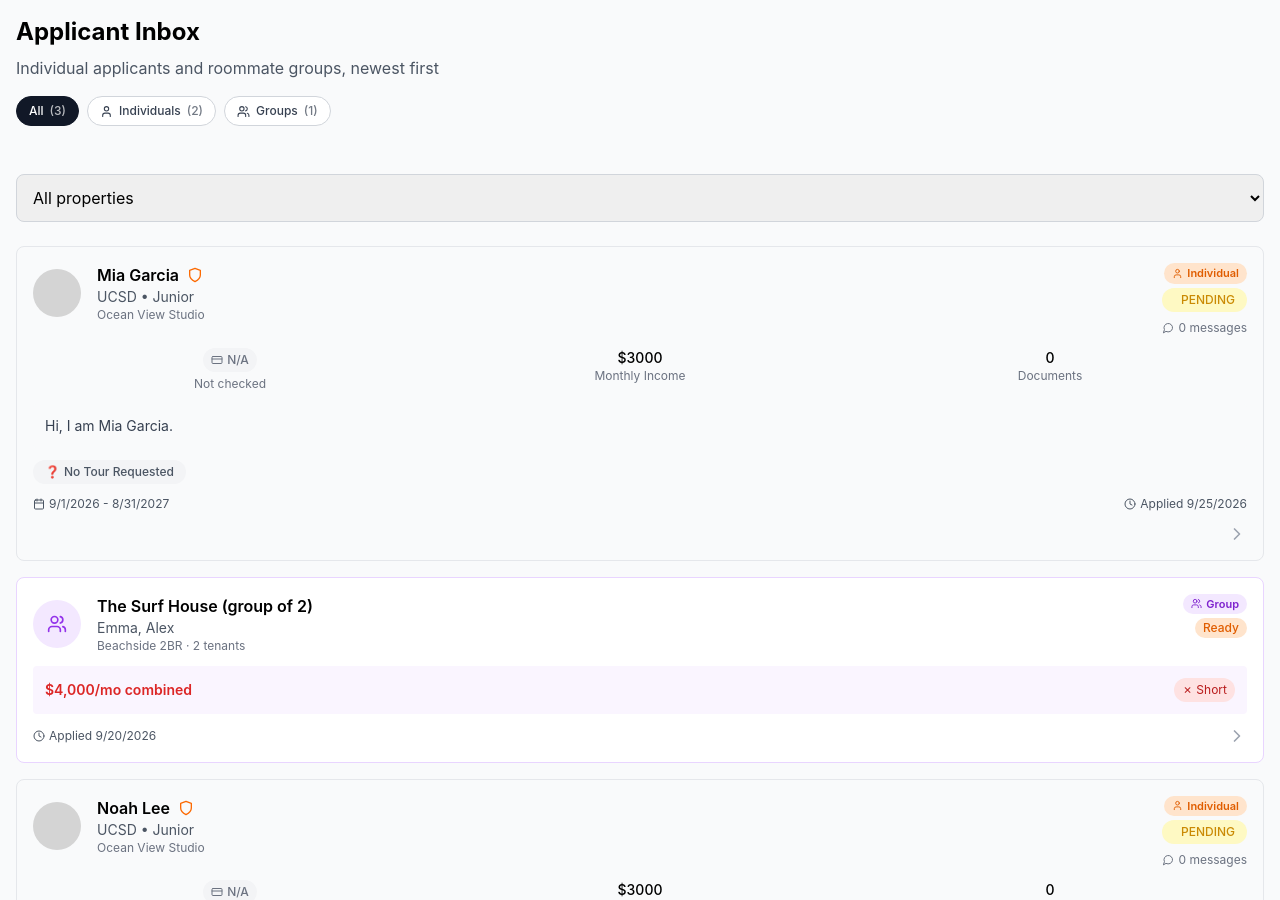
Test case: LandlordInbox › filters by kind and by property
This screenshot has width=1280, height=900.
Check: the element with test id "inbox-group-l1:g1" is shown, box [16, 576, 1264, 762]
Click the button "Groups (1)": [277, 111] box [224, 96, 331, 126]
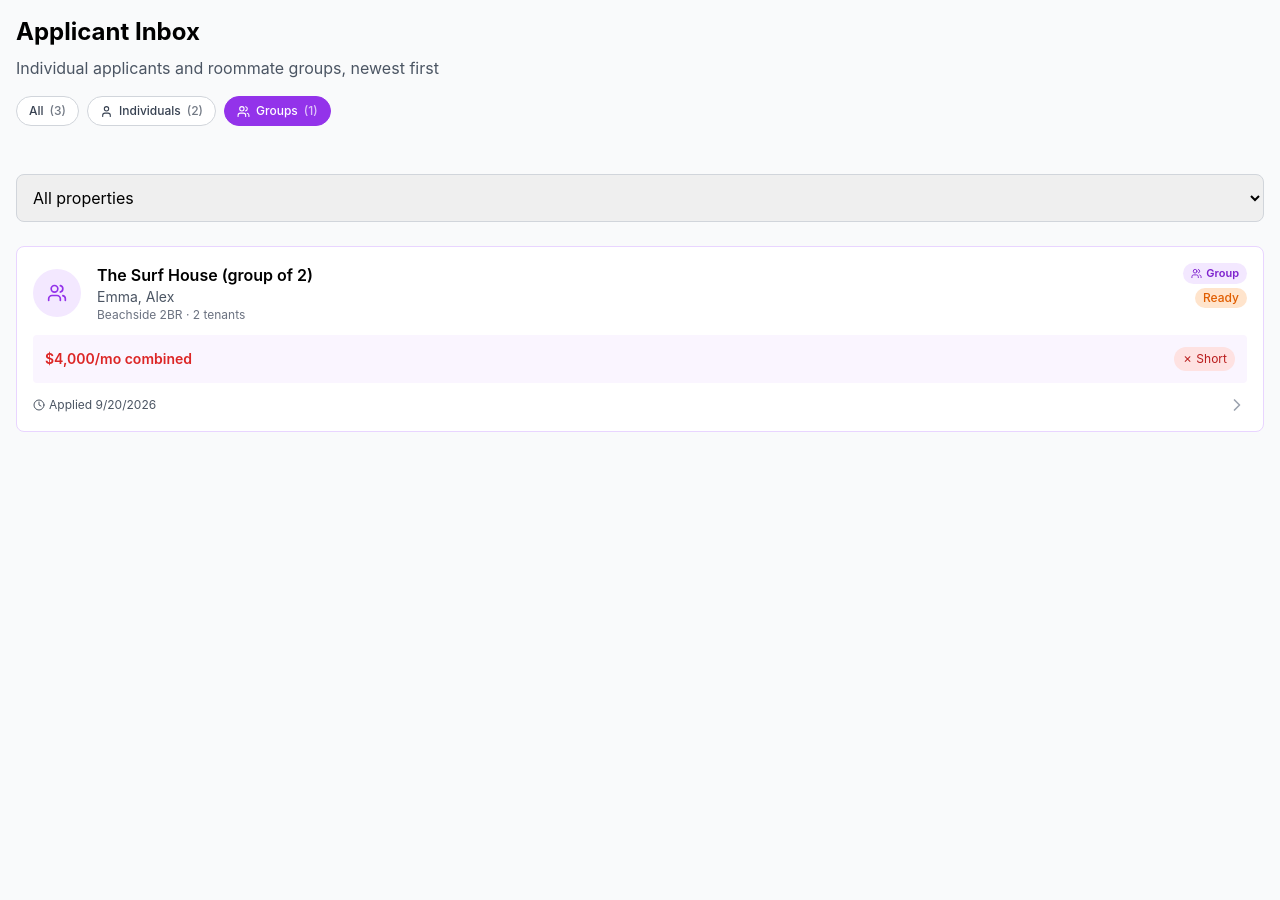
Check: the element with test id "inbox-group-l1:g1" is shown, box [16, 246, 1264, 432]
Check: the element with test id "inbox-application-a3" is gone
Click the button "Individuals (2)": [152, 111] box [87, 96, 216, 126]
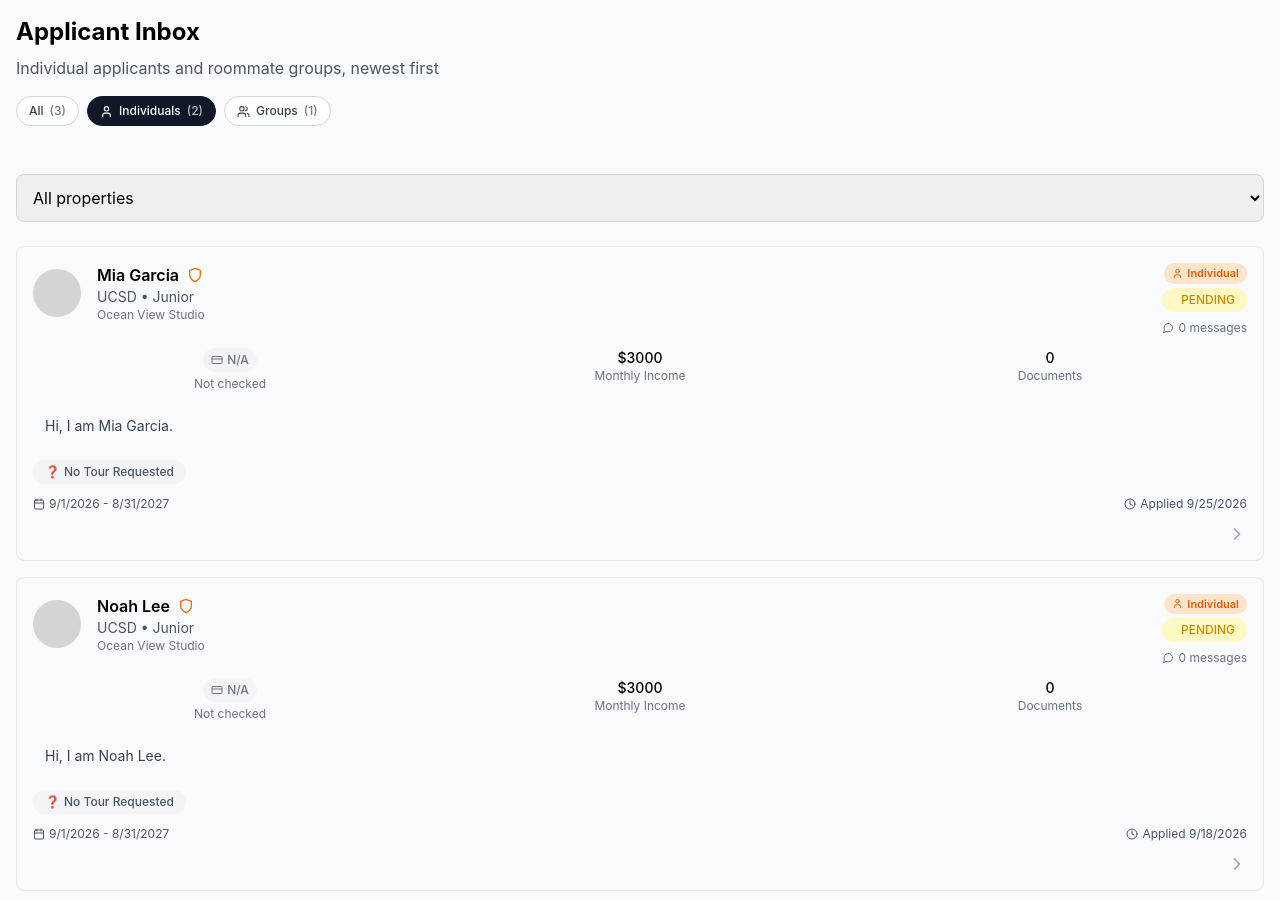
Check: the element with test id "inbox-application-a3" is shown, box [16, 246, 1264, 560]
Click the button "All (3)": [48, 111] box [16, 96, 79, 126]
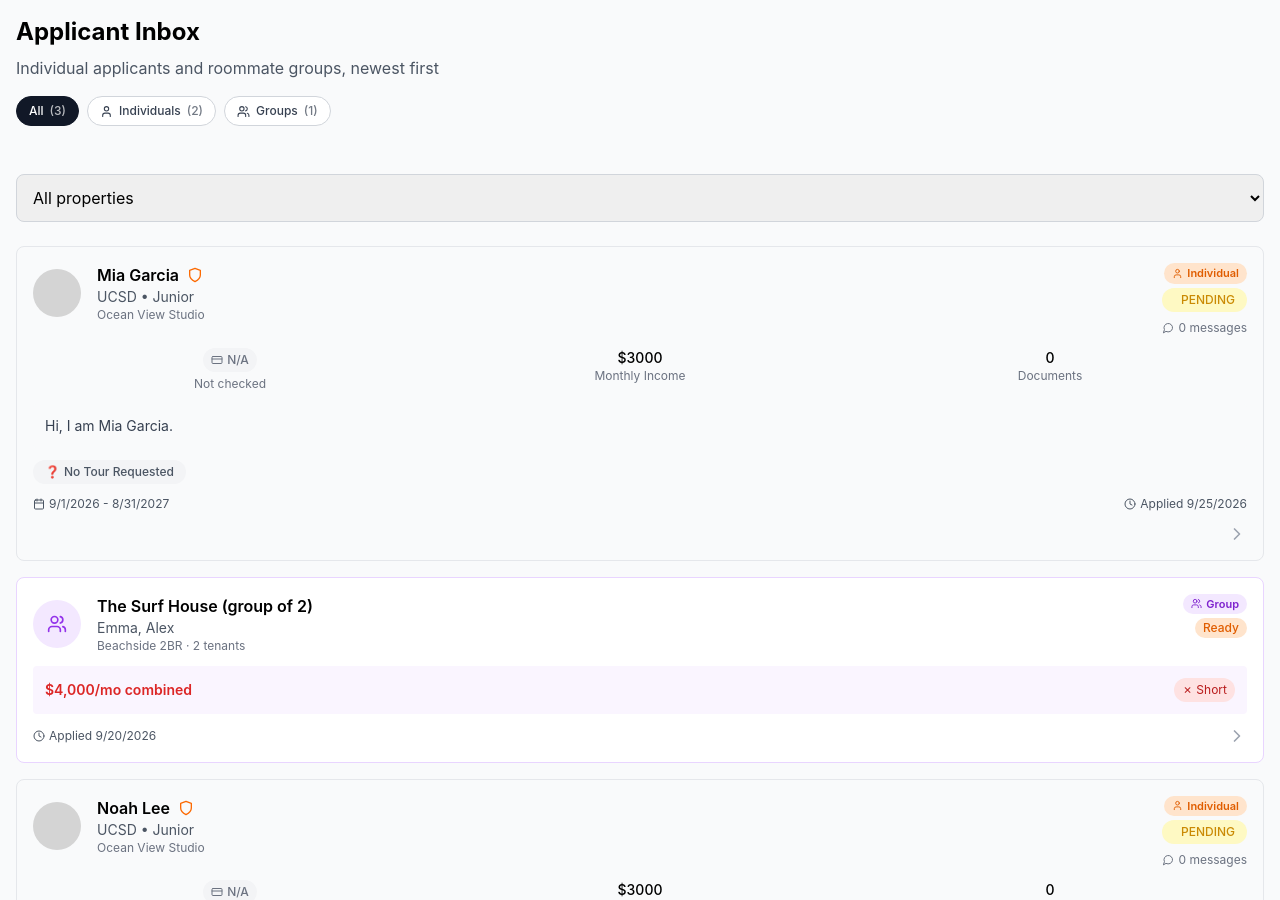
Select "Beachside 2BR" in the dropdown named "Property": [640, 198] box [16, 174, 1264, 222]
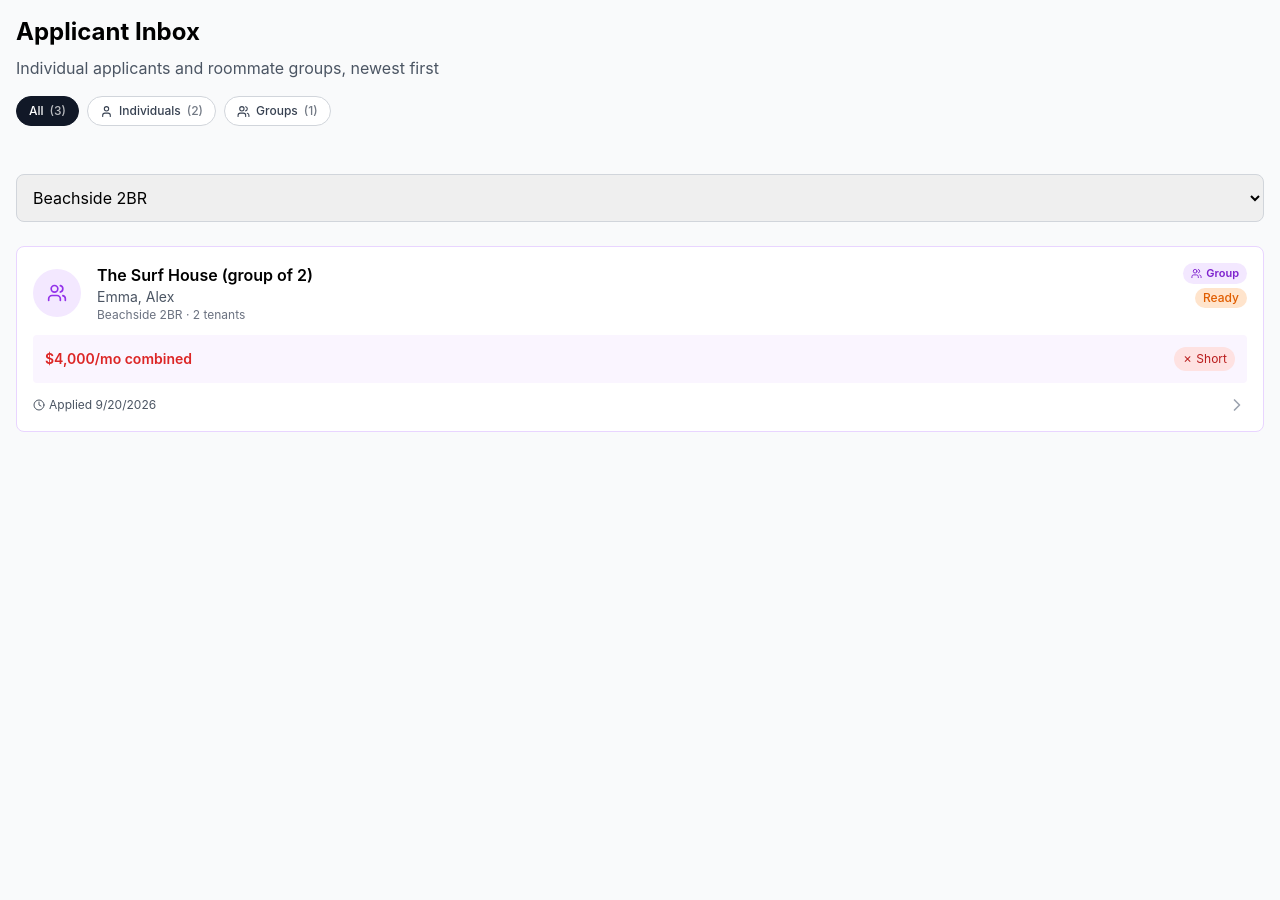
Check: the element with test id "inbox-group-l1:g1" is shown, box [16, 246, 1264, 432]
Check: the element with test id "inbox-application-a3" is gone
